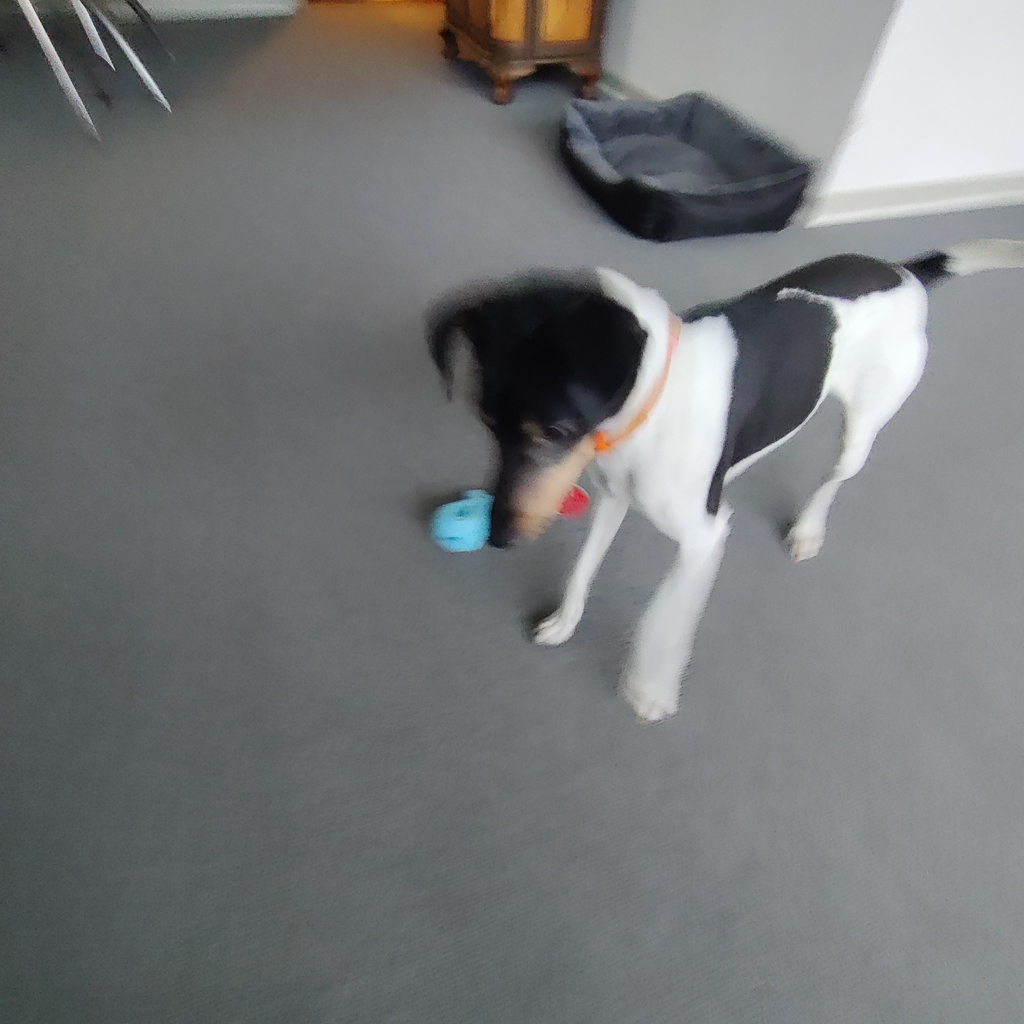Dog: (410, 214, 1024, 732)
